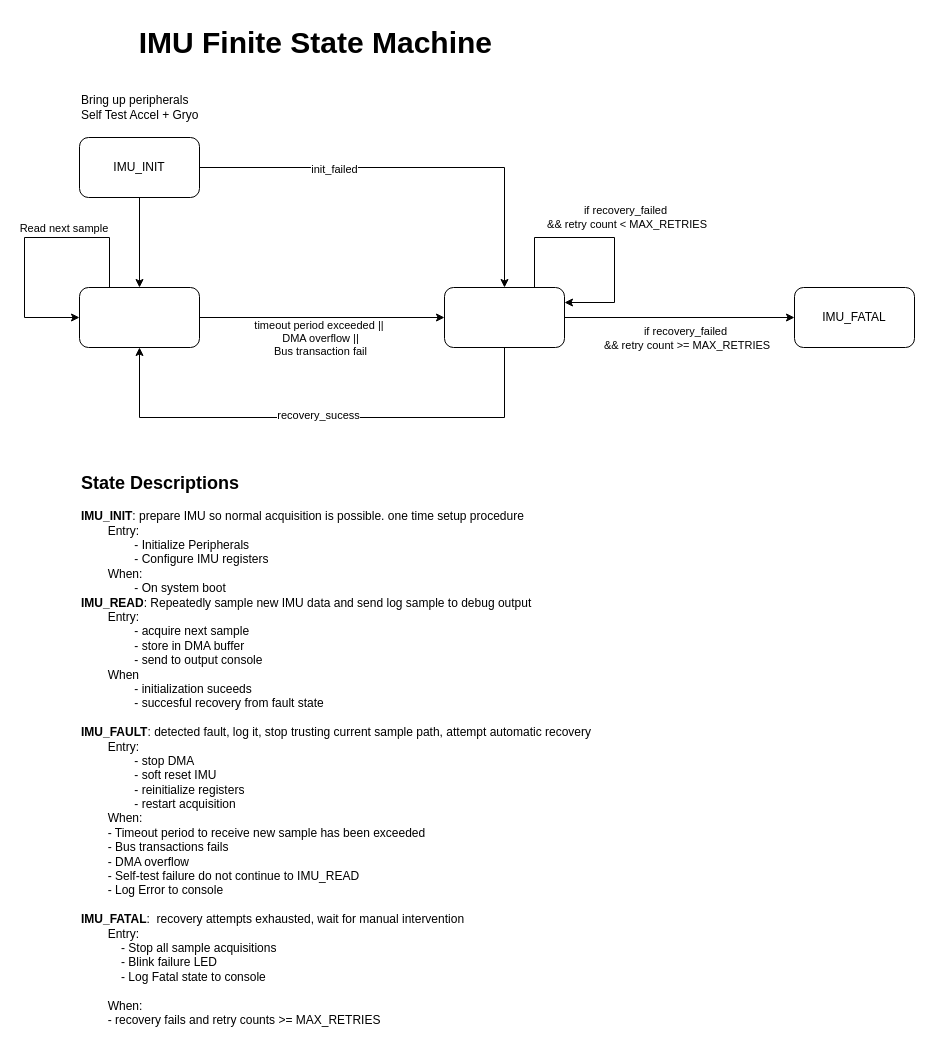
This 932x1064 diagram has some shape labels left out. The shapes that lost their labels are listed below. From the top down, each one's box as (x1, y1, x2, y2) in pixels, then its label:
(78, 286, 200, 348): IMU_READ
(444, 286, 564, 348): IMU_FAULT
